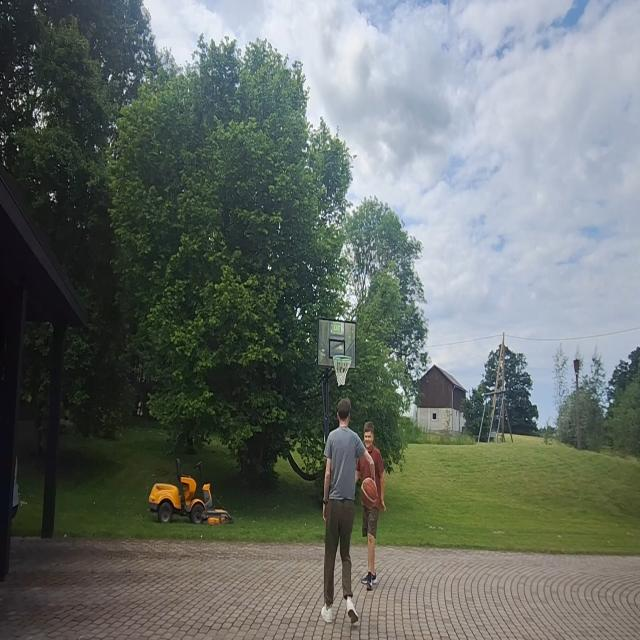ball: (359, 476, 378, 511)
basket: (333, 352, 352, 387)
player: (320, 396, 377, 626), (356, 416, 387, 596)
